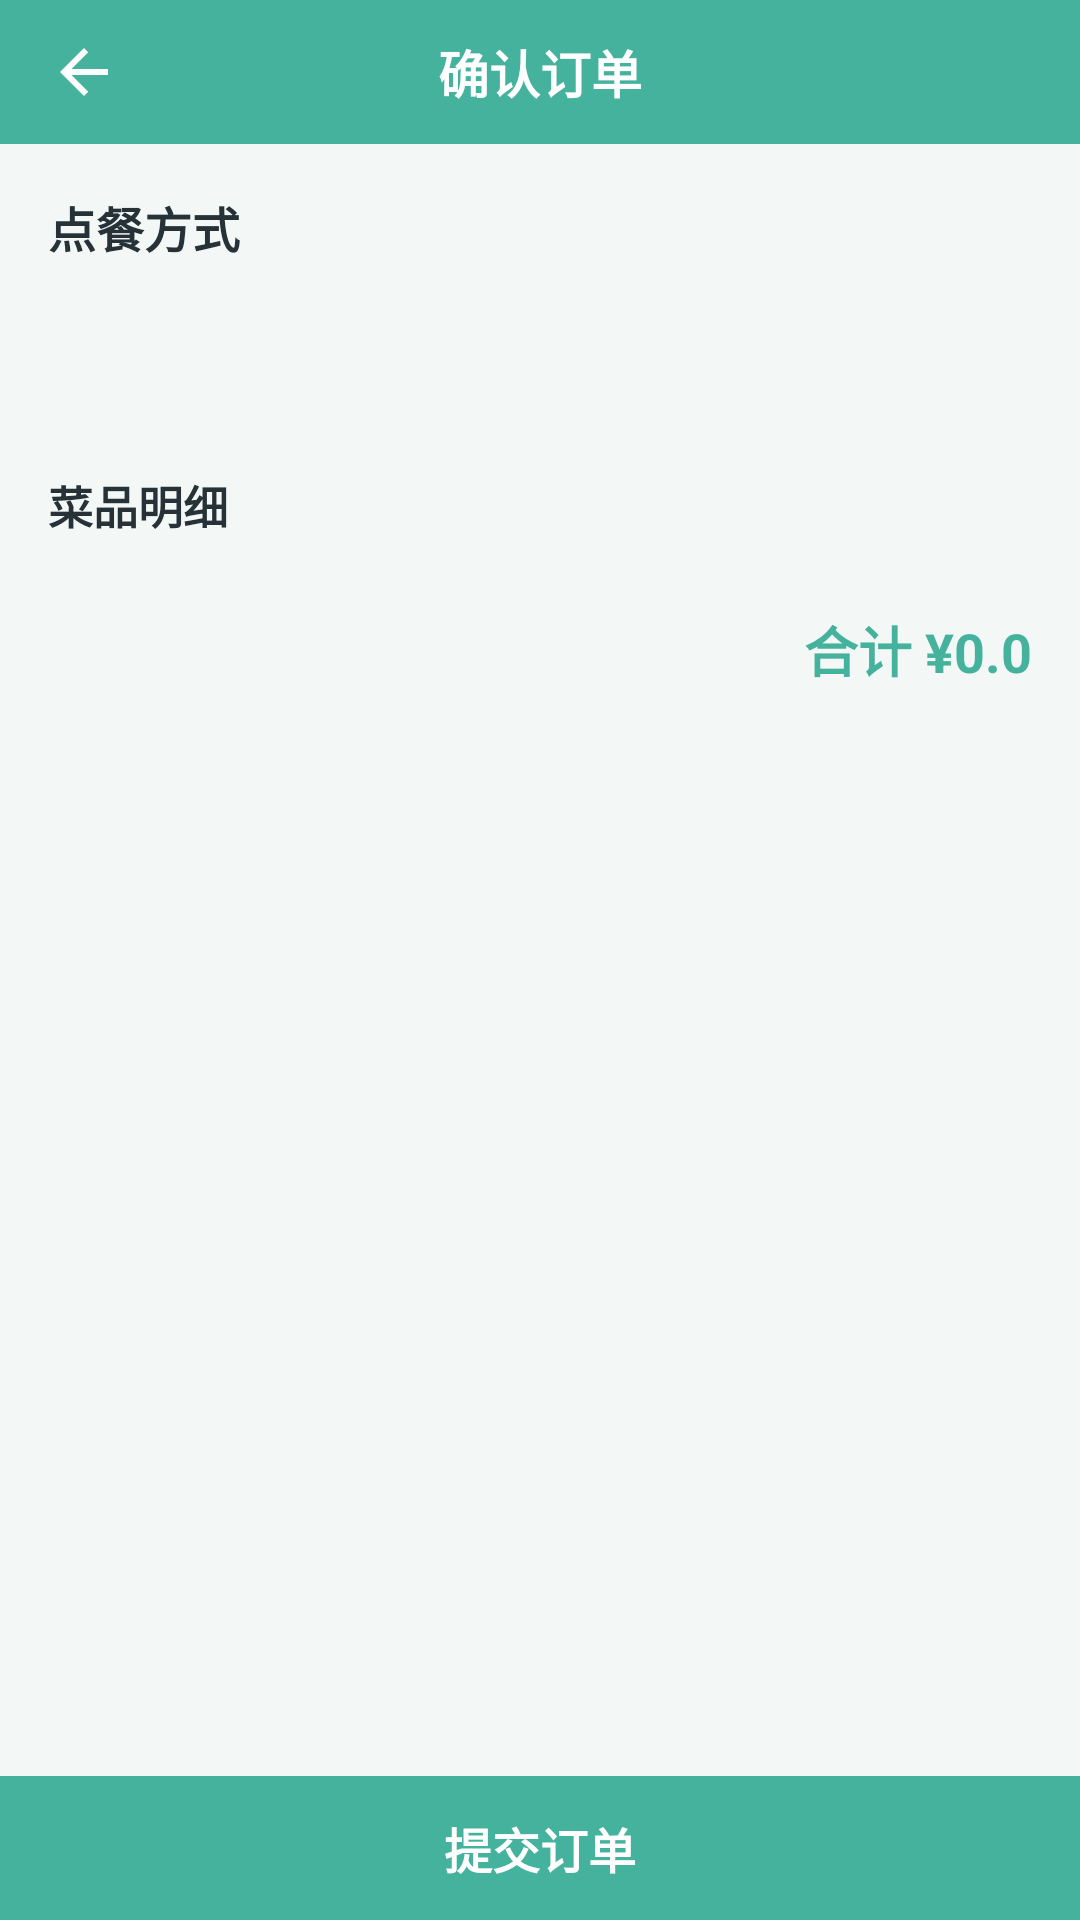

Named icons in this screenshot (1080px x 1920px) and their bounding boxes, (x1, y1, x2, y2):
返回: (60, 48, 108, 96)
